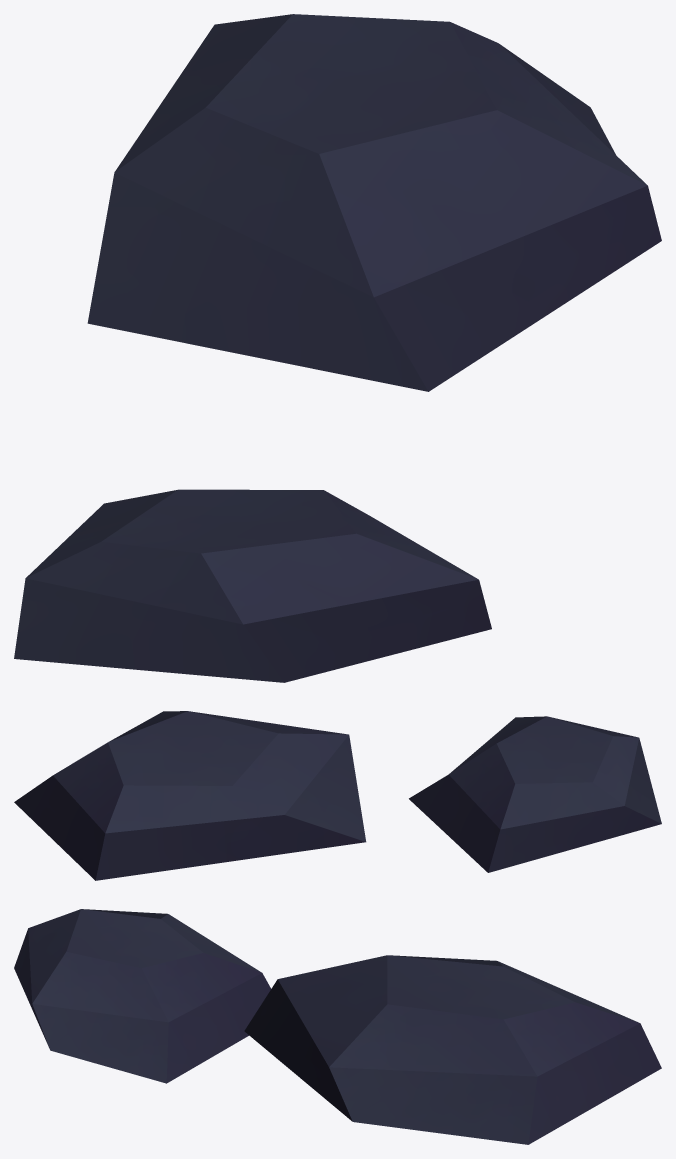
File: Rock_Stones05.fbx
3 views of the same model, one above another, from view 1: azimuth 30°, elevation 25°; view 2: azimuth 150°, elevation 25°; view 3: azimuth 270°, elevation 25° (orthographic). The views are drawn at different scales.
Visible parts, largest first — view 1: Rock2.002; view 2: Rock2.002; view 3: Rock2.002.
Part boxes in pixels (box(x1,y1,x2,y2)): Rock2.002: box(14, 14, 661, 682); Rock2.002: box(14, 711, 661, 880); Rock2.002: box(14, 909, 661, 1144).
Bounding box in the file's own units: 93.91 × 25.41 × 100.
